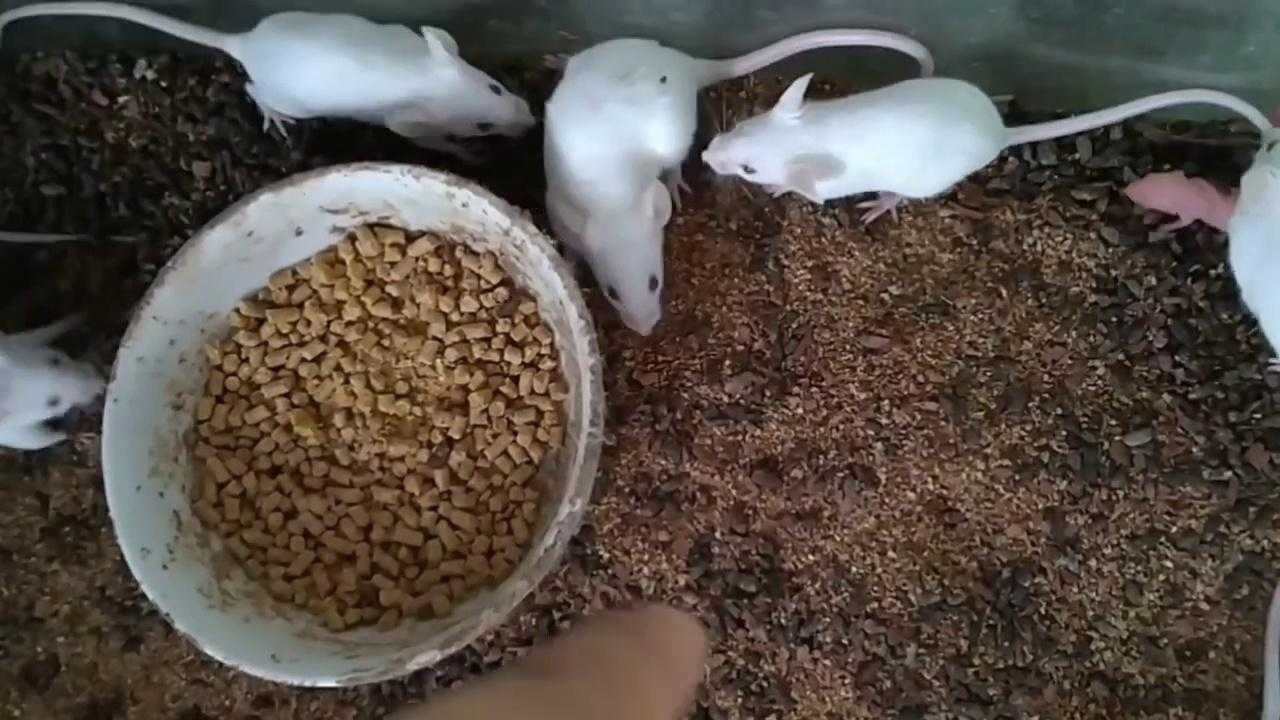rat: (546, 27, 936, 335), (702, 73, 1274, 224), (0, 0, 534, 161), (0, 311, 106, 451)
